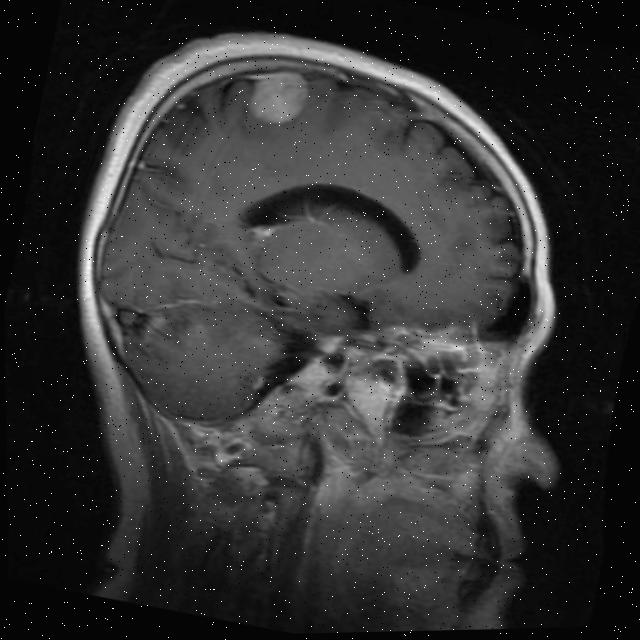Meningioma: (241, 62, 315, 135)
